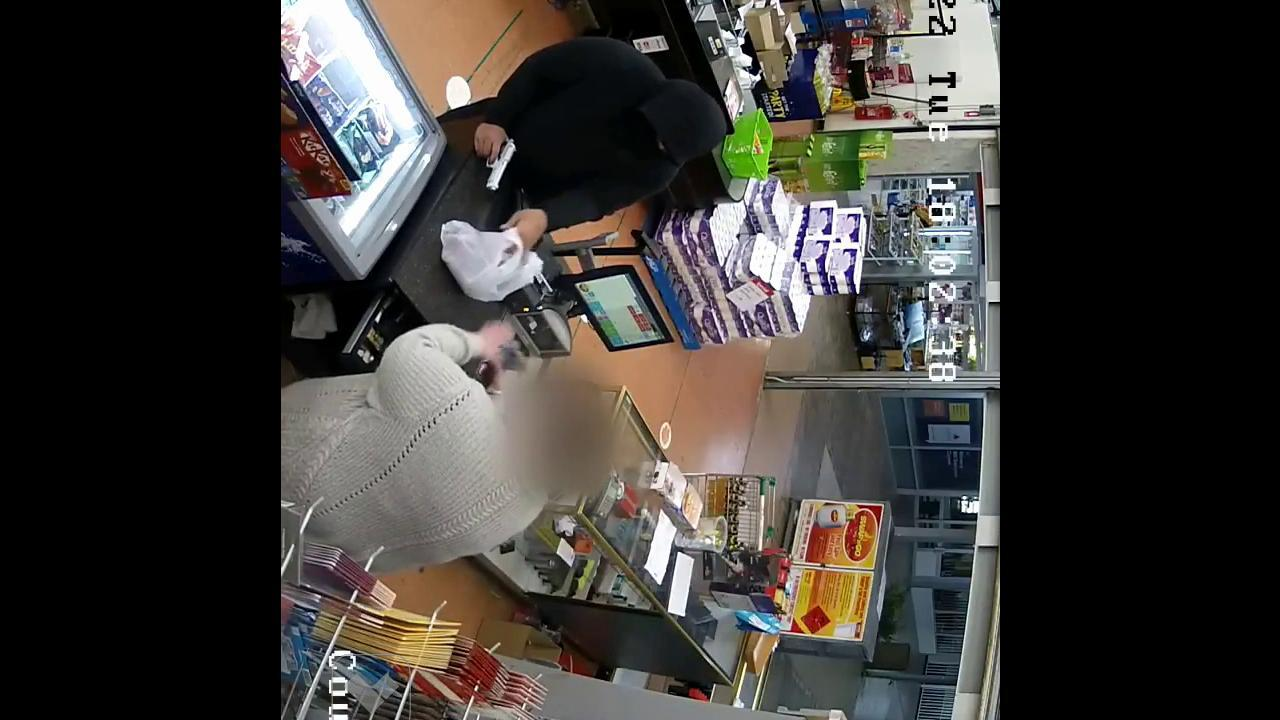gun: (468, 131, 524, 196)
